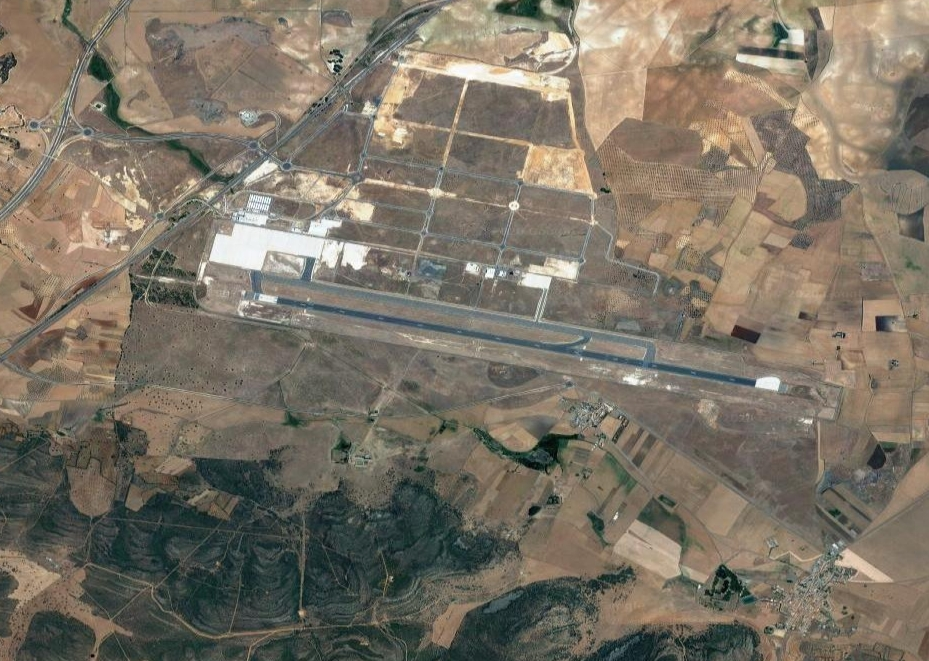airport: (224, 188, 783, 393)
motorway: (235, 109, 317, 180), (80, 229, 161, 300), (155, 163, 236, 234), (1, 292, 81, 363), (60, 1, 136, 75), (1, 144, 52, 221), (50, 72, 95, 143)
